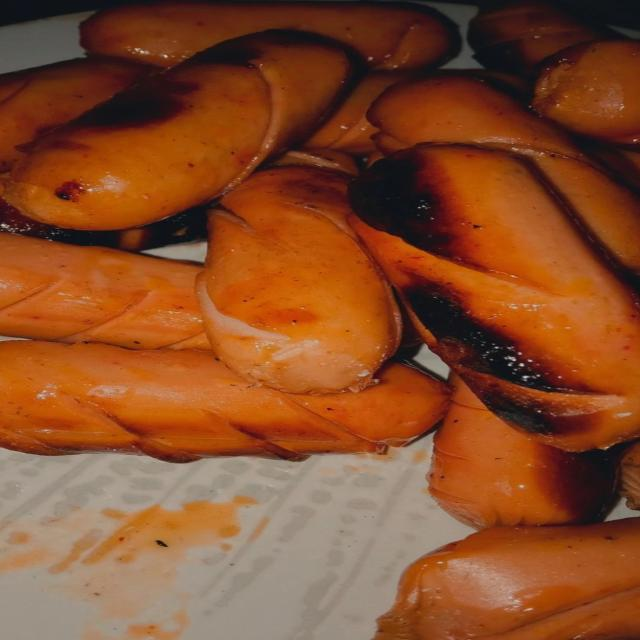sausage: (351, 145, 639, 451), (5, 31, 350, 230), (369, 72, 639, 283), (0, 341, 448, 461), (199, 165, 401, 393), (375, 518, 639, 639), (428, 376, 615, 528), (81, 1, 459, 69), (0, 233, 209, 349), (0, 57, 157, 171), (533, 40, 639, 145), (468, 0, 615, 75), (0, 199, 206, 251), (305, 70, 417, 156), (305, 70, 411, 155), (586, 141, 639, 195), (269, 148, 359, 175), (620, 441, 639, 509)
